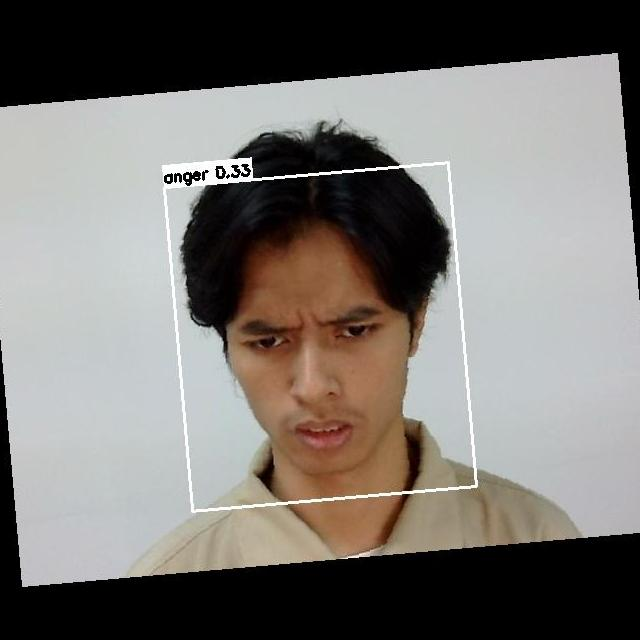Fear: (217, 277, 409, 465)
